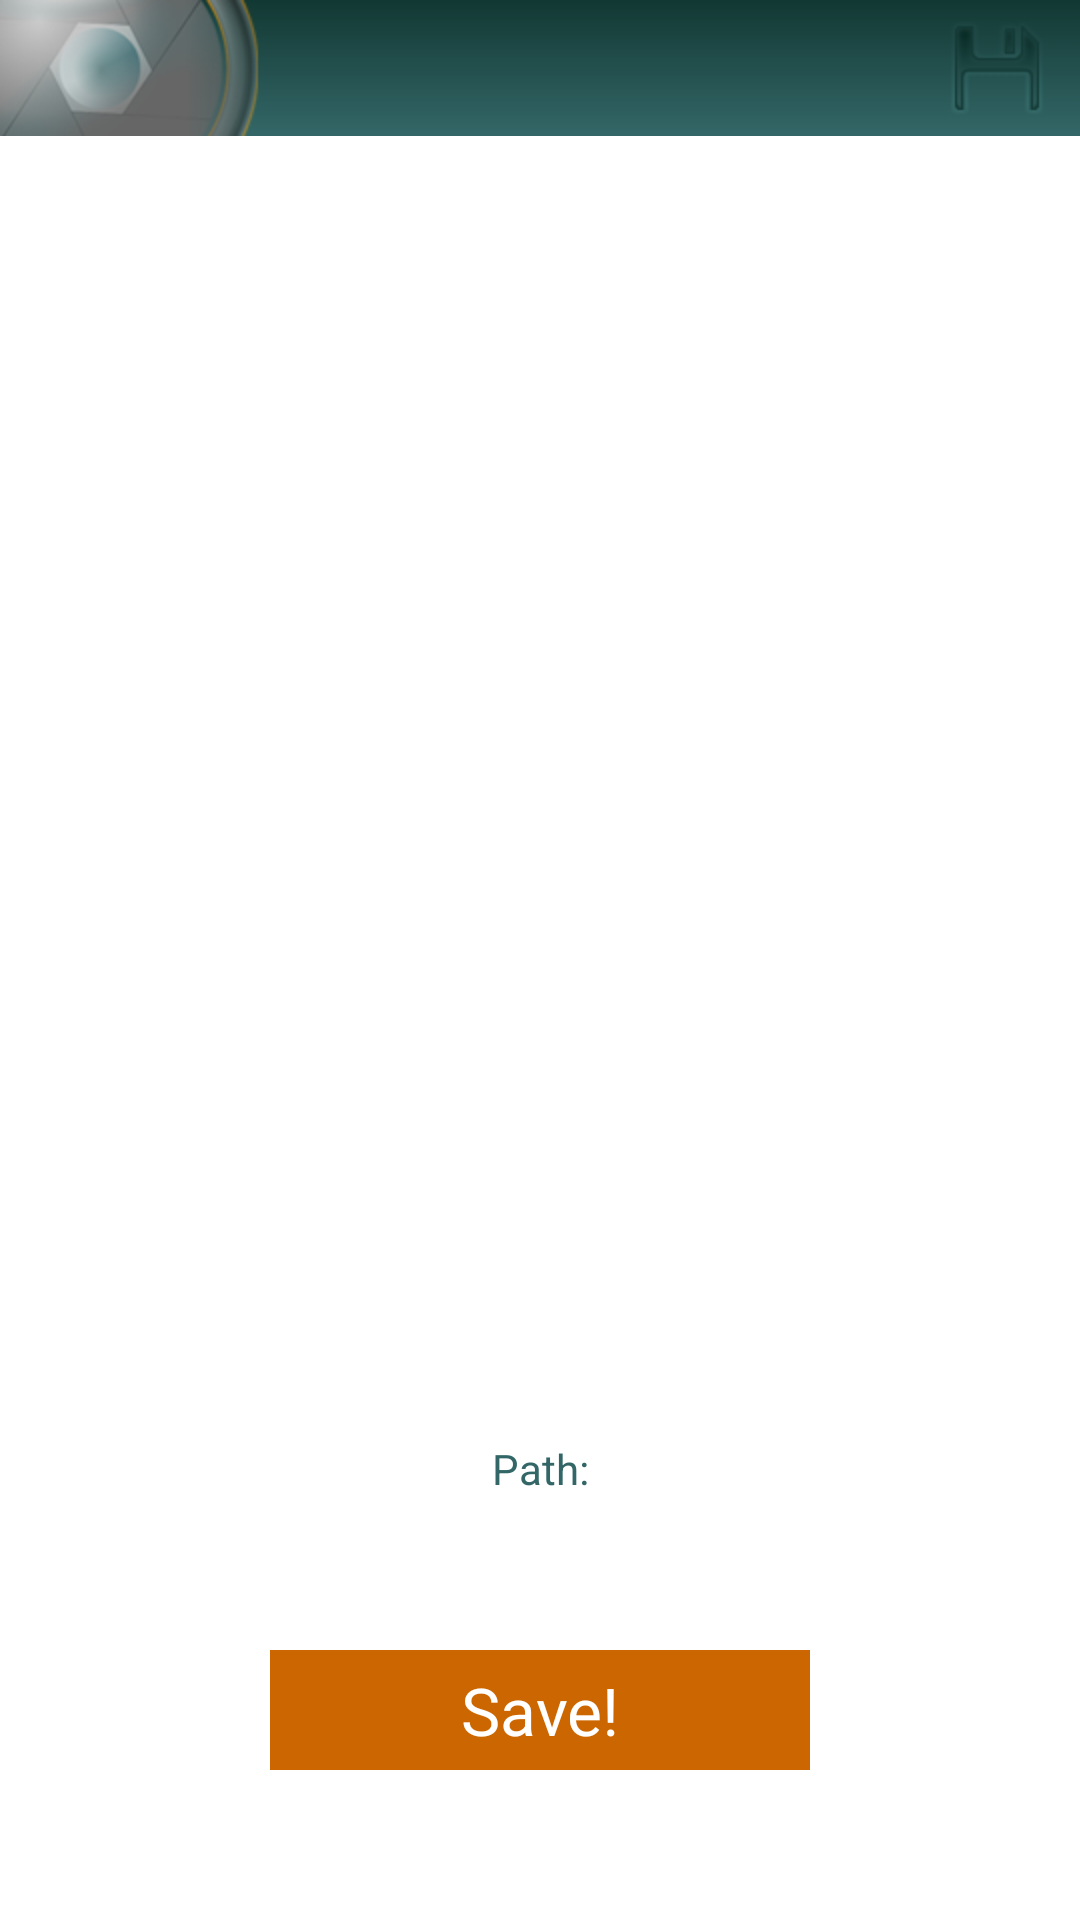

Where to tap for icons on this 1080x1920 app screen, as (x=x, y=y):
save: (x=997, y=68)
